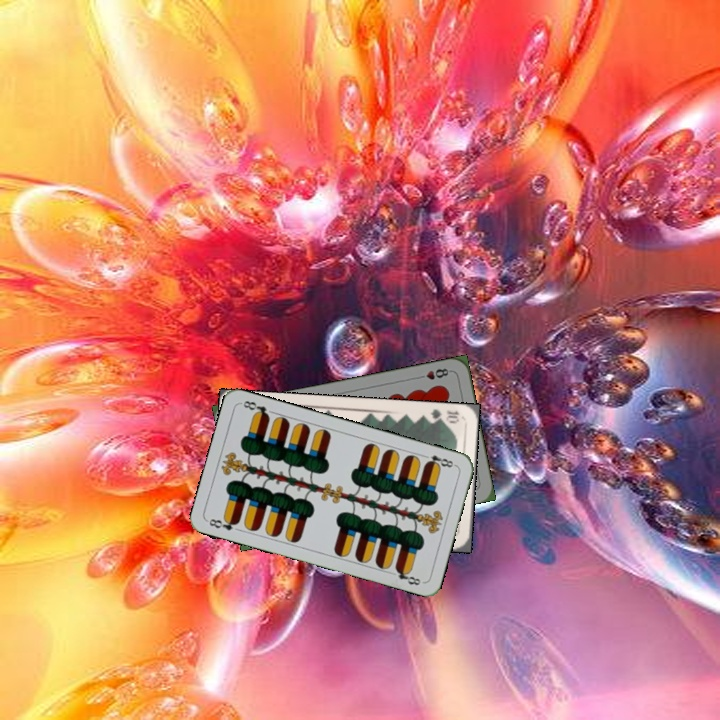E8: (204, 513, 242, 533), (419, 451, 458, 470)
G10: (427, 405, 461, 426)
H8: (413, 364, 454, 382)
